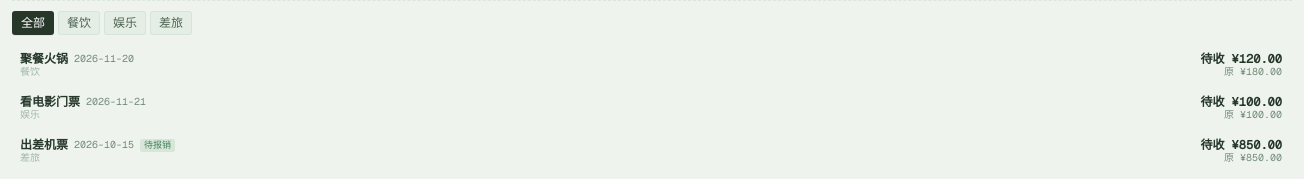
OffsetTrayPanel Component (TDD) › renders pure category chips when candidates span > 1 category and count > 2, and filters list on click
Expected: the button "全部" is shown, [12,11,54,35]
Expected: the button "娱乐" is shown, [104,11,146,35]
What coordinates should you click on to do the following:
click the button "餐饮"
I would click on:
 (79, 23)
Its box is [58,11,100,35].
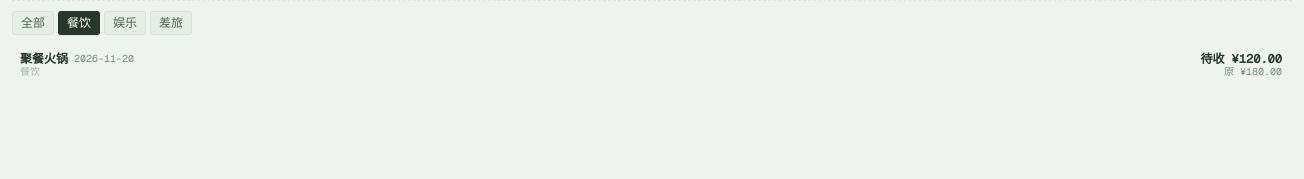
Expected: the text "聚餐火锅" is shown, [20,51,68,67]
Expected: the button "看电影门票" is gone
Expected: the button "出差机票" is gone
What coordinates should you click on to do the following:
click the button "全部"
I would click on:
 (33, 23)
Its box is [12,11,54,35].
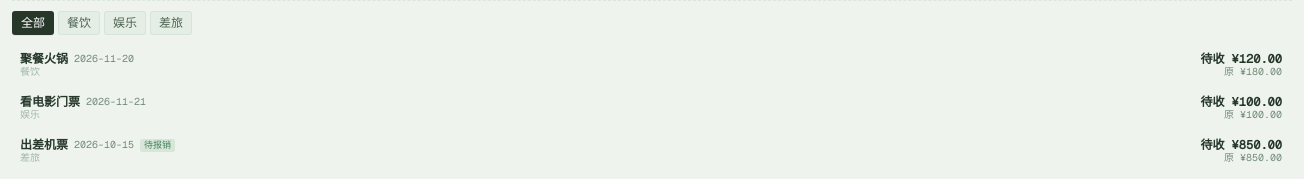
Expected: the text "看电影门票" is shown, [20,94,80,110]
